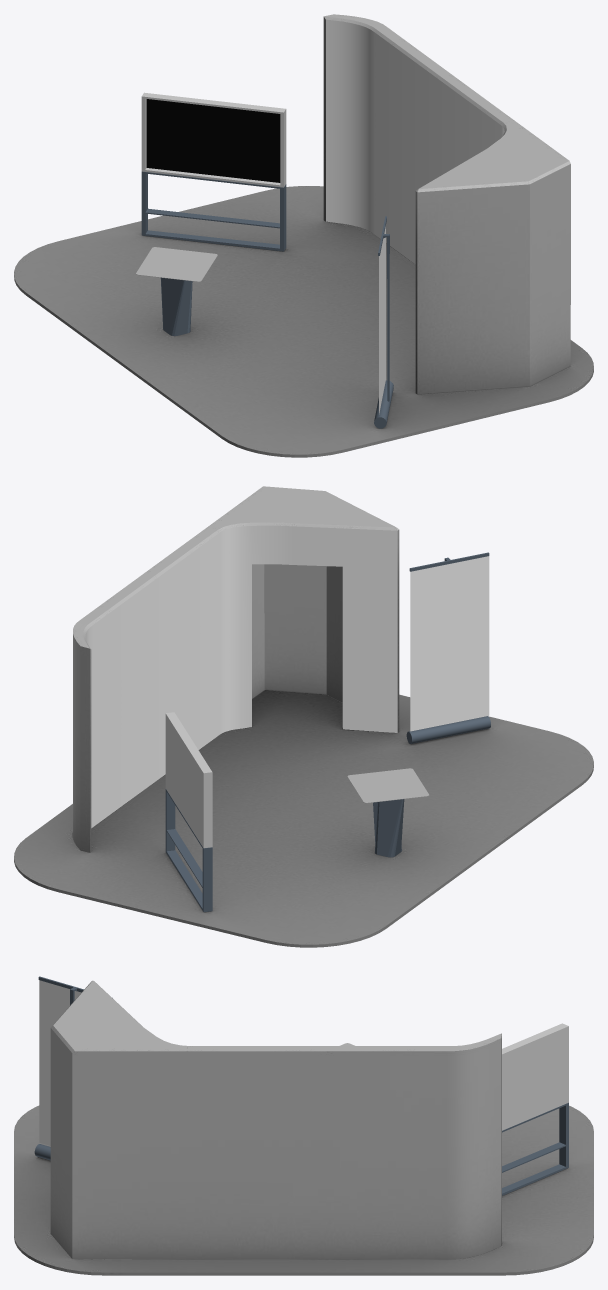
The model's file is exhibitionStand2.glb.
3 renders of one model, top to bottom at view 1: azimuth 30°, elevation 25°; view 2: azimuth 150°, elevation 25°; view 3: azimuth 270°, elevation 25°, orthographic.
Visible parts, largest first — view 1: Rug, Backwall, PosterWall, TVScreen, TVStand, TV, TableTop, Table, Poster, Posterstandframe; view 2: Rug, PosterWall, Backwall, Poster, TV, TVStand, TableTop, Table, Posterstand; view 3: Backwall, Rug, TV, Poster, TVStand.
Part boxes in pixels (x1,y1,x2,y2): Rug: [14, 186, 593, 457]; Backwall: [323, 14, 570, 394]; PosterWall: [326, 19, 504, 264]; TVScreen: [146, 99, 280, 182]; TVStand: [141, 171, 286, 251]; TV: [141, 92, 286, 187]; TableTop: [136, 247, 217, 281]; Table: [160, 277, 192, 336]; Poster: [379, 226, 385, 414]; Posterstandframe: [378, 216, 389, 401]; Rug: [14, 690, 593, 947]; PosterWall: [85, 525, 397, 828]; Backwall: [73, 486, 399, 852]; Poster: [410, 556, 489, 731]; TV: [165, 712, 212, 848]; TVStand: [165, 789, 212, 912]; TableTop: [347, 768, 429, 803]; Table: [373, 799, 404, 857]; Posterstand: [406, 716, 490, 743]; Backwall: [50, 980, 501, 1259]; Rug: [14, 1105, 593, 1275]; TV: [502, 1023, 568, 1130]; Poster: [39, 980, 81, 1145]; TVStand: [502, 1102, 568, 1195].
Size of the model in its own units: 9.19 by 5.05 by 12.58.
Materials: 8 (2 with a texture image).
